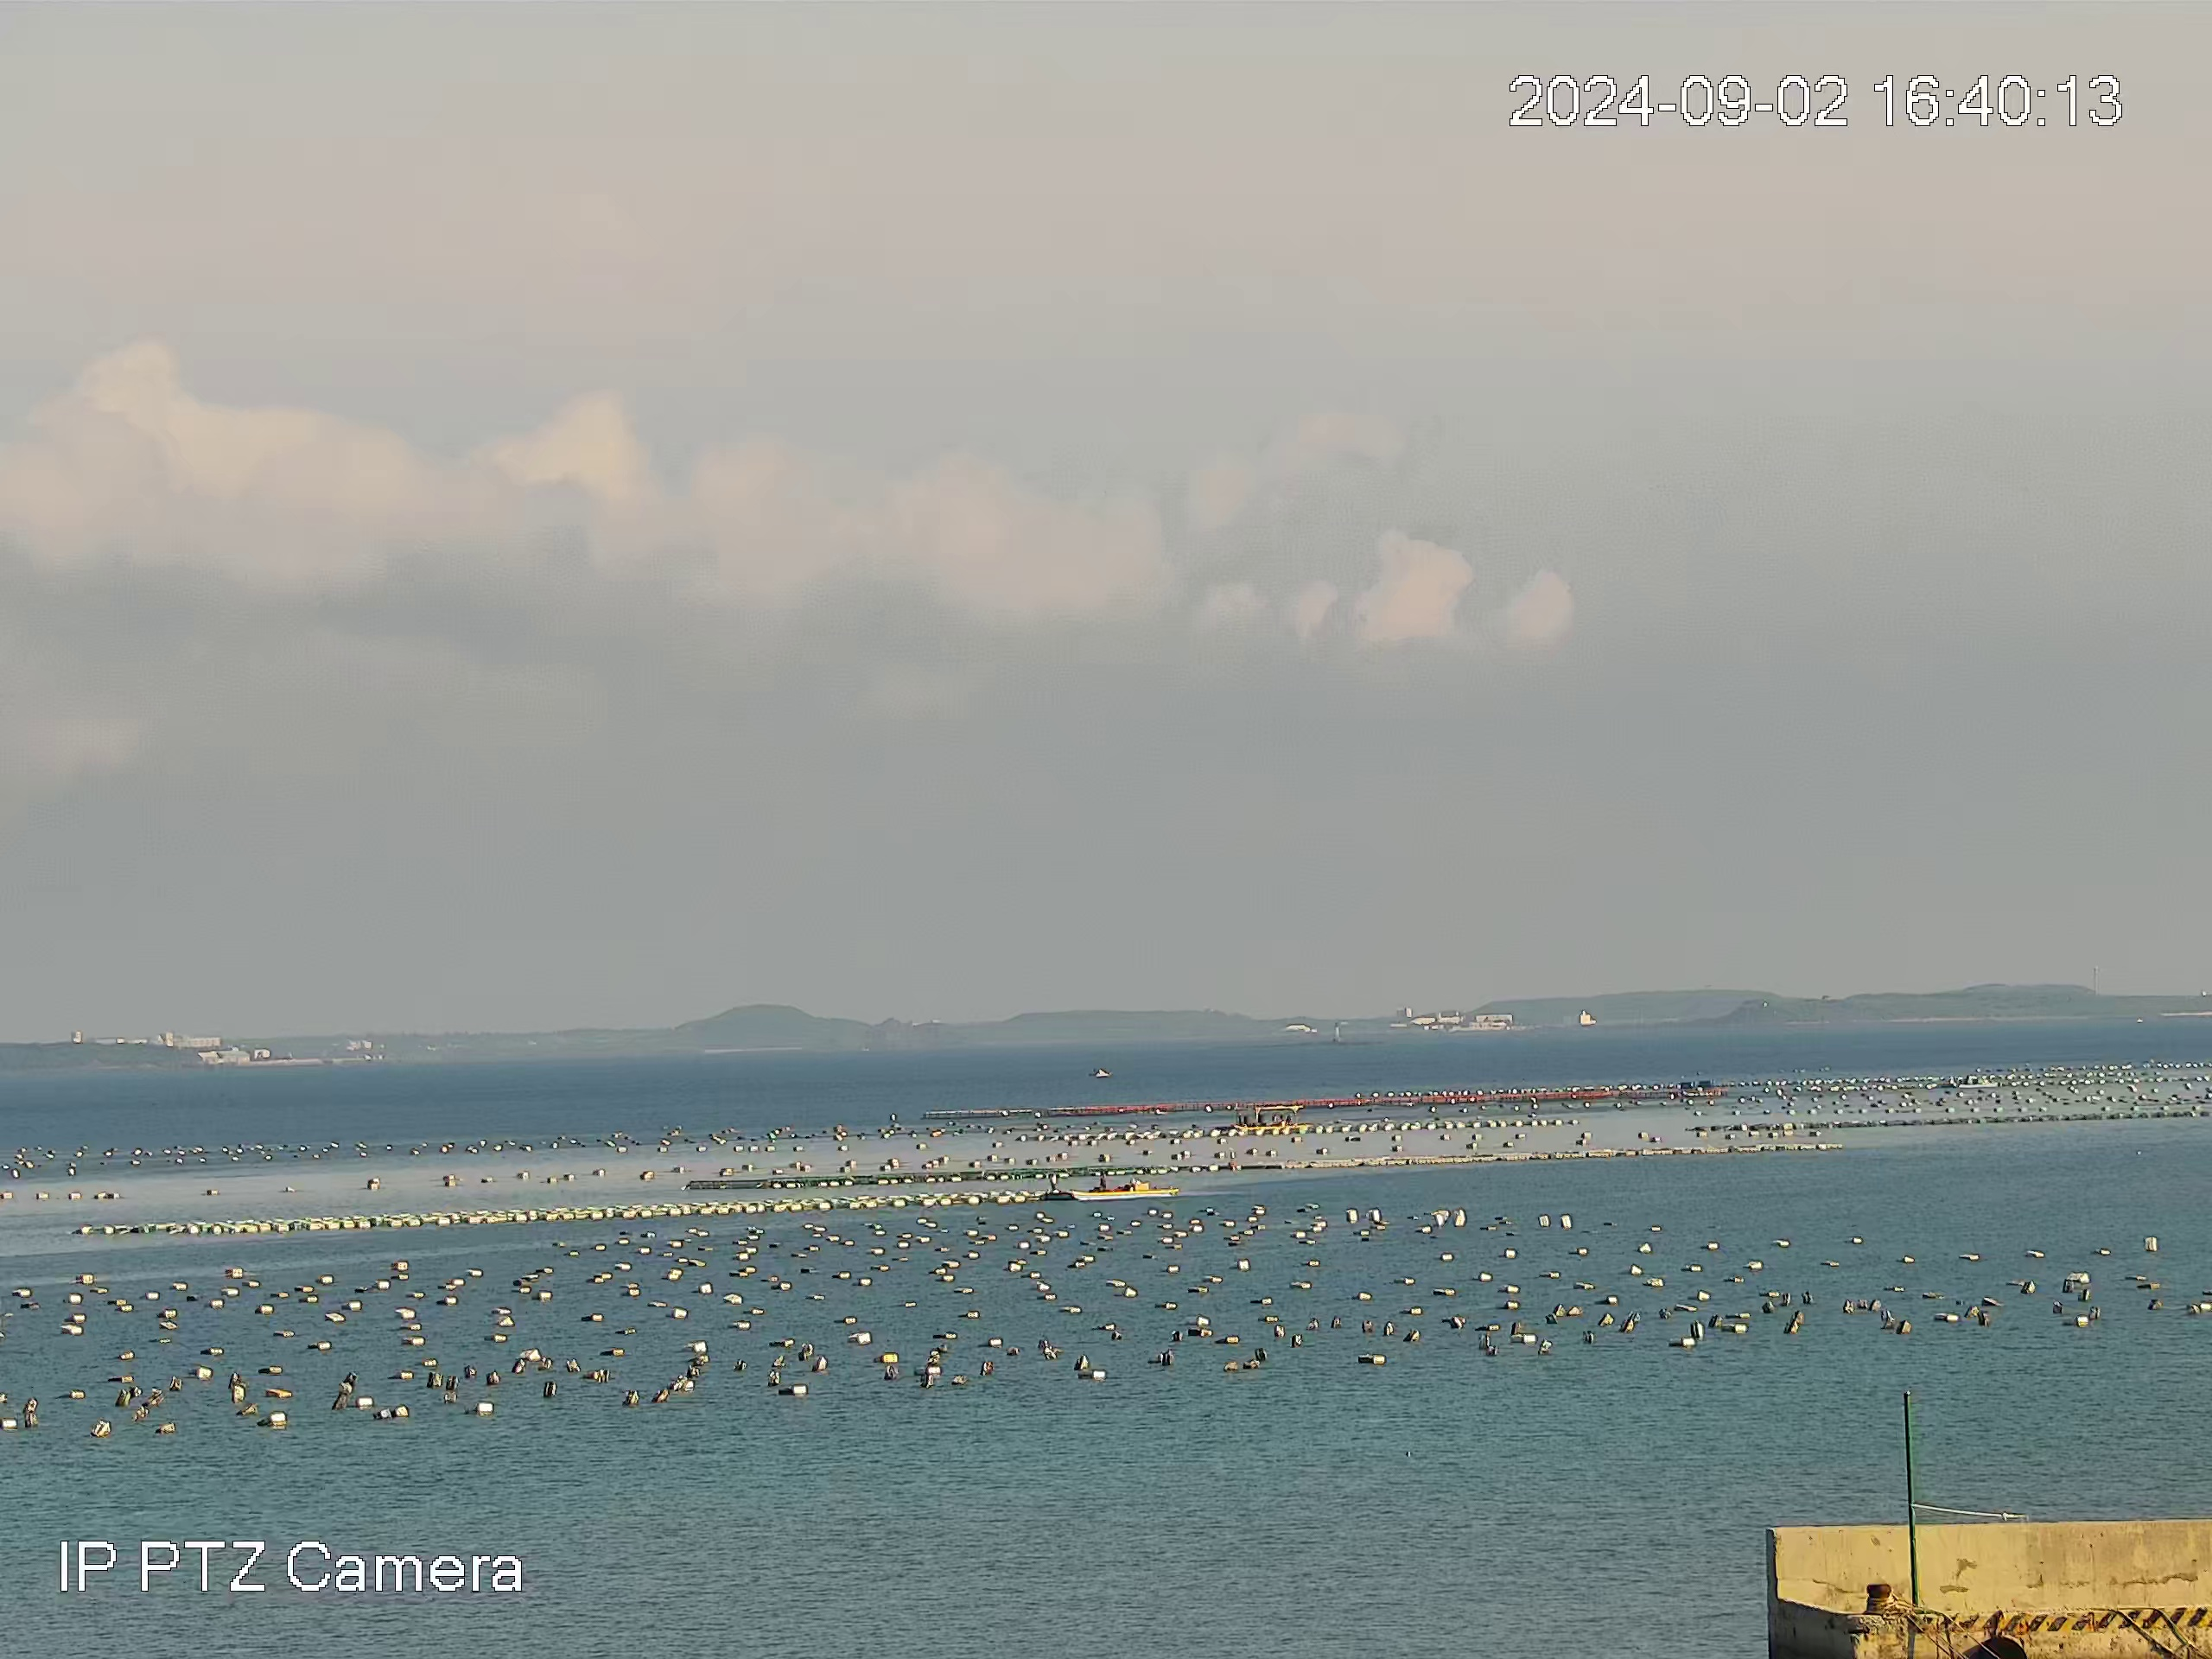boat: (1037, 1171, 1179, 1202), (1229, 1102, 1311, 1130), (1957, 1073, 1999, 1090)
